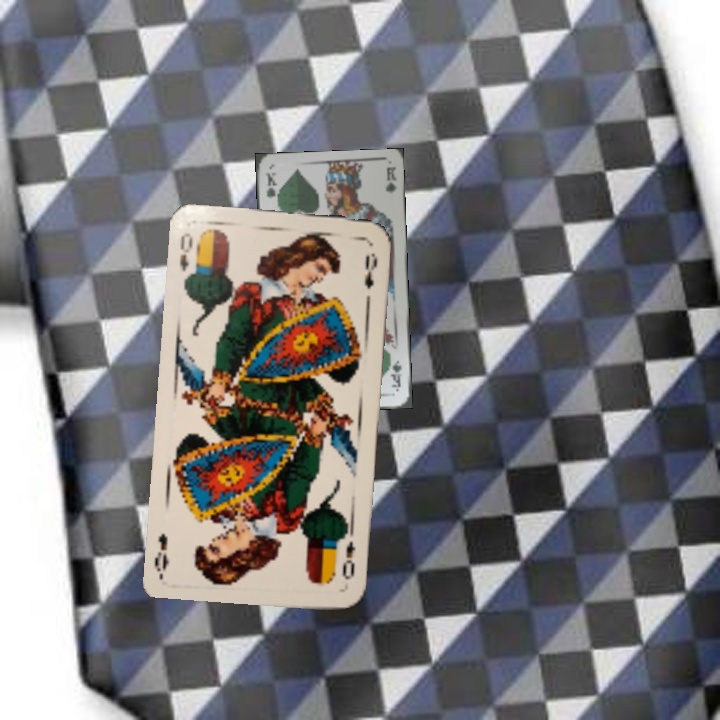EO: (175, 229, 196, 274), (338, 537, 357, 582)
GK: (387, 356, 404, 392), (261, 168, 279, 200)
